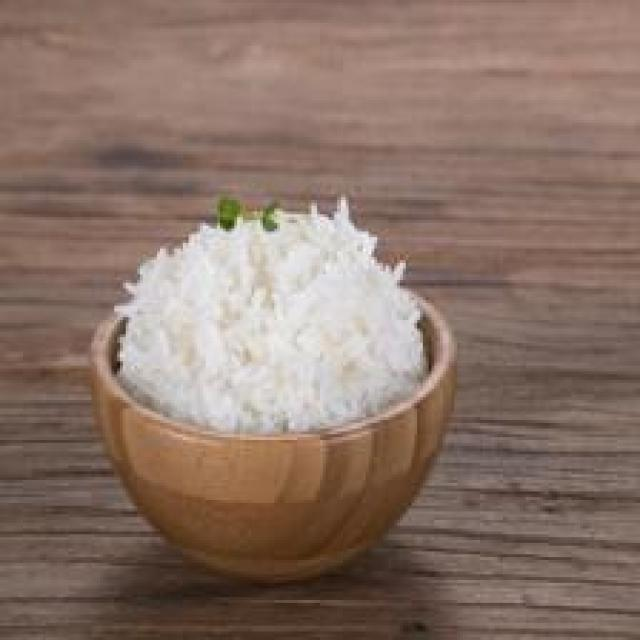Wet Waste: (108, 194, 446, 436)
